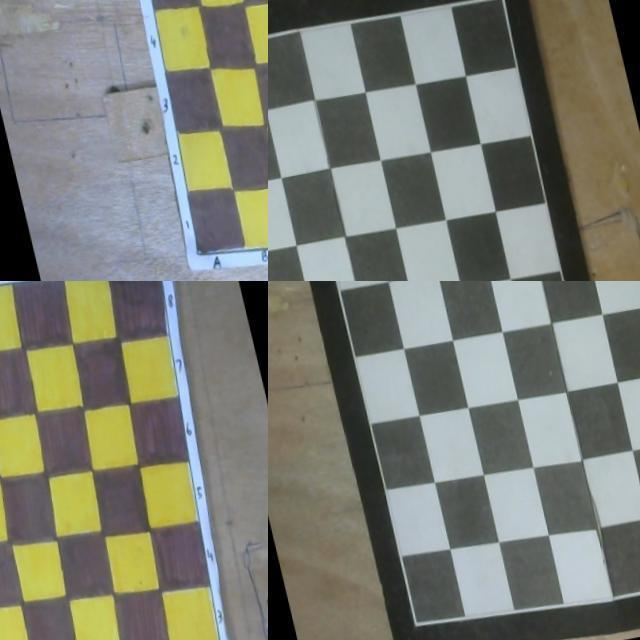chess-table-corners: (404, 620, 411, 628), (496, 0, 505, 5), (268, 64, 272, 75), (288, 281, 296, 286), (188, 251, 194, 257), (0, 305, 2, 312), (102, 0, 106, 2)
